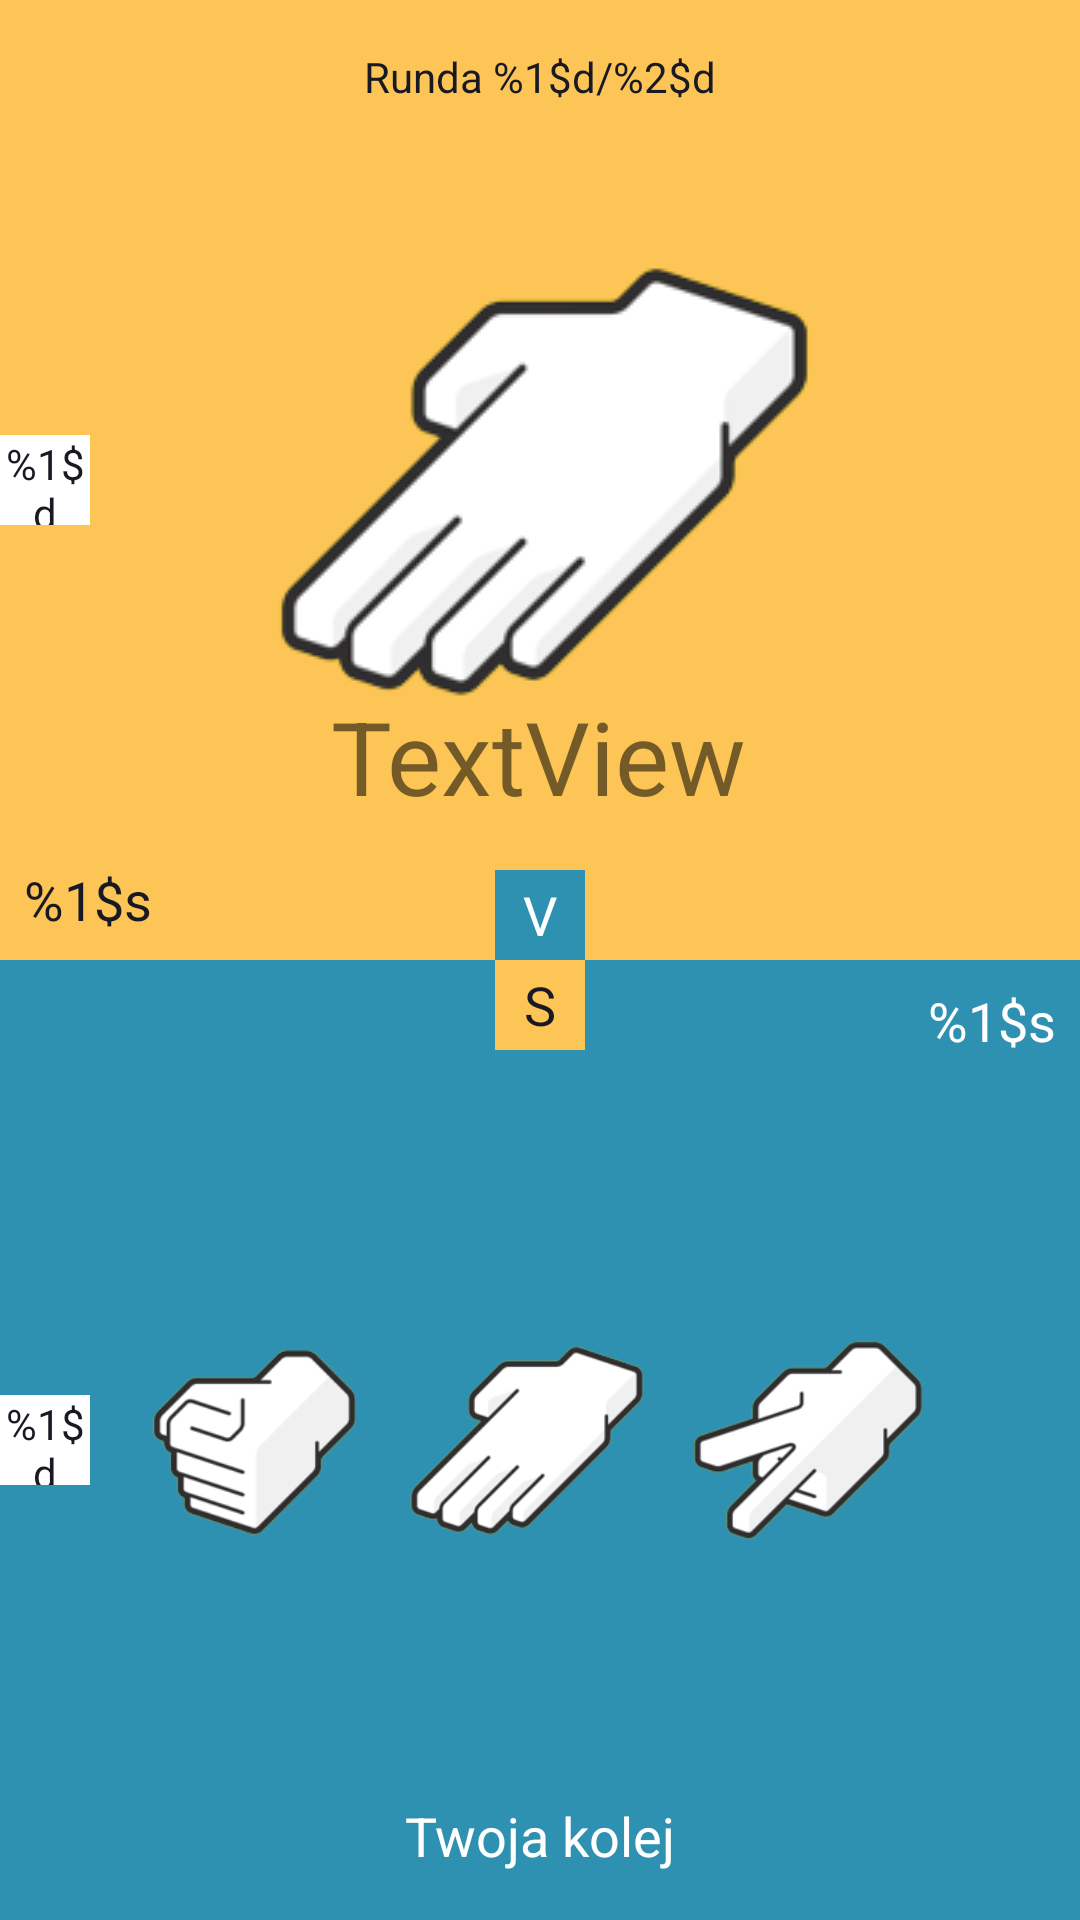

Screen size 1080x1920. Icon name, then its box in pixels as [x1=x1, y1=y1, x2=x2, y2=y2]:
Paper button: [x1=410, y1=1346, x2=643, y2=1535]
Rock button: [x1=153, y1=1350, x2=356, y2=1535]
Scissors button: [x1=694, y1=1341, x2=922, y2=1539]
